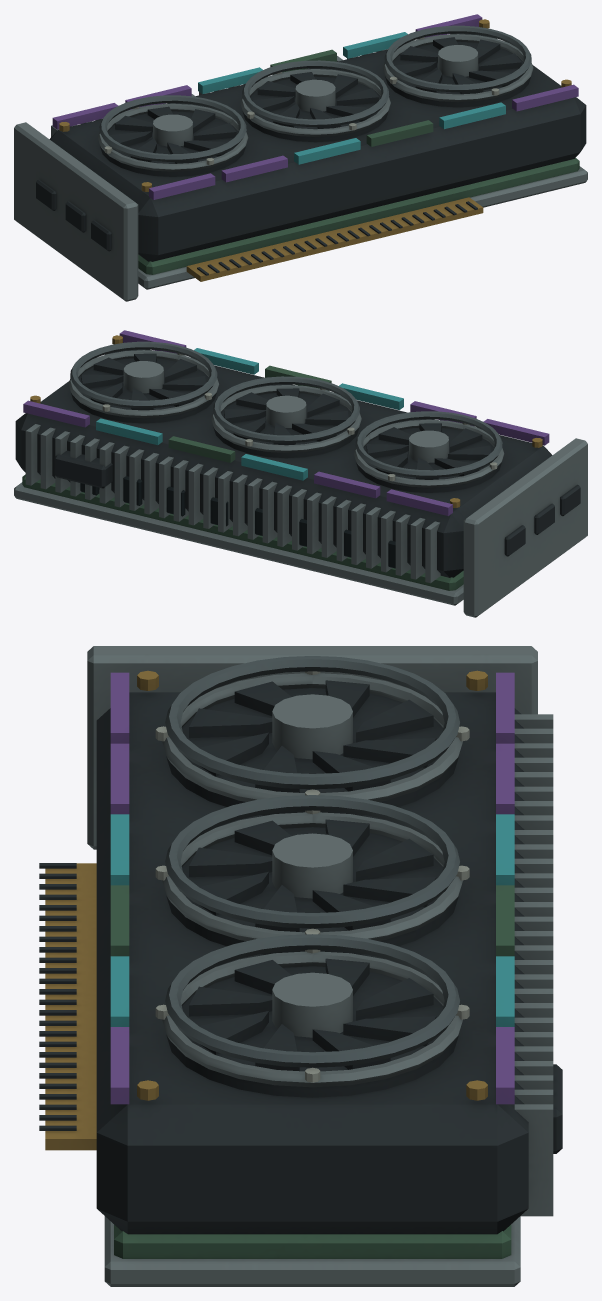
File: graphics_card.obj
3 renders of one model, top to bottom at view 1: azimuth 30°, elevation 25°; view 2: azimuth 150°, elevation 25°; view 3: azimuth 270°, elevation 25°, orthographic. The views are drawn at different scales.
Parts seen in each view (by area): view 1: graphics_card_static_0; view 2: graphics_card_static_0; view 3: graphics_card_static_0.
Boxes of the visible parts, <box> form: graphics_card_static_0: <box>14,14,587,301</box>; graphics_card_static_0: <box>14,330,587,617</box>; graphics_card_static_0: <box>39,646,562,1286</box>.
Size of the model in its own units: 0.354 by 0.081 by 0.1685.
1 material, 1 textured.
